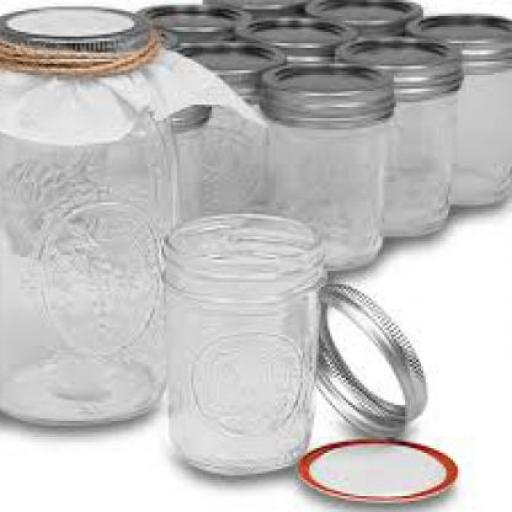glass: (3, 64, 182, 423), (164, 212, 330, 474), (266, 116, 396, 270), (380, 87, 462, 234), (455, 68, 511, 203), (173, 128, 207, 224)
metal: (314, 280, 432, 433), (3, 2, 155, 64), (267, 61, 398, 127), (336, 34, 464, 98), (173, 39, 293, 95), (410, 11, 511, 74), (236, 16, 367, 64), (136, 2, 250, 48), (306, 0, 425, 39), (205, 0, 312, 18), (173, 103, 216, 130)
